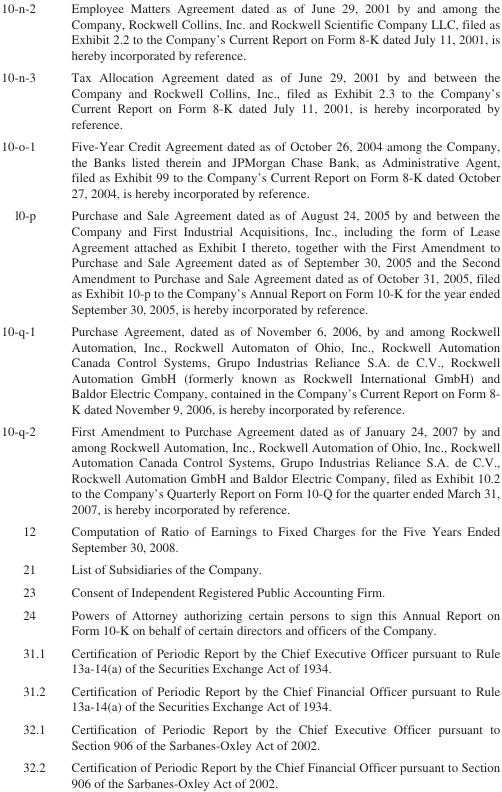table: (0, 0, 499, 789)
table column: (57, 0, 499, 789), (0, 0, 57, 789)
table row: (0, 203, 499, 319), (0, 319, 499, 419), (0, 419, 499, 519), (0, 65, 499, 134), (0, 134, 499, 203), (0, 0, 499, 65), (0, 519, 499, 557), (0, 603, 499, 641), (0, 641, 499, 679), (0, 679, 499, 717), (0, 717, 499, 755), (0, 755, 499, 789), (0, 557, 499, 580), (0, 580, 499, 603)
